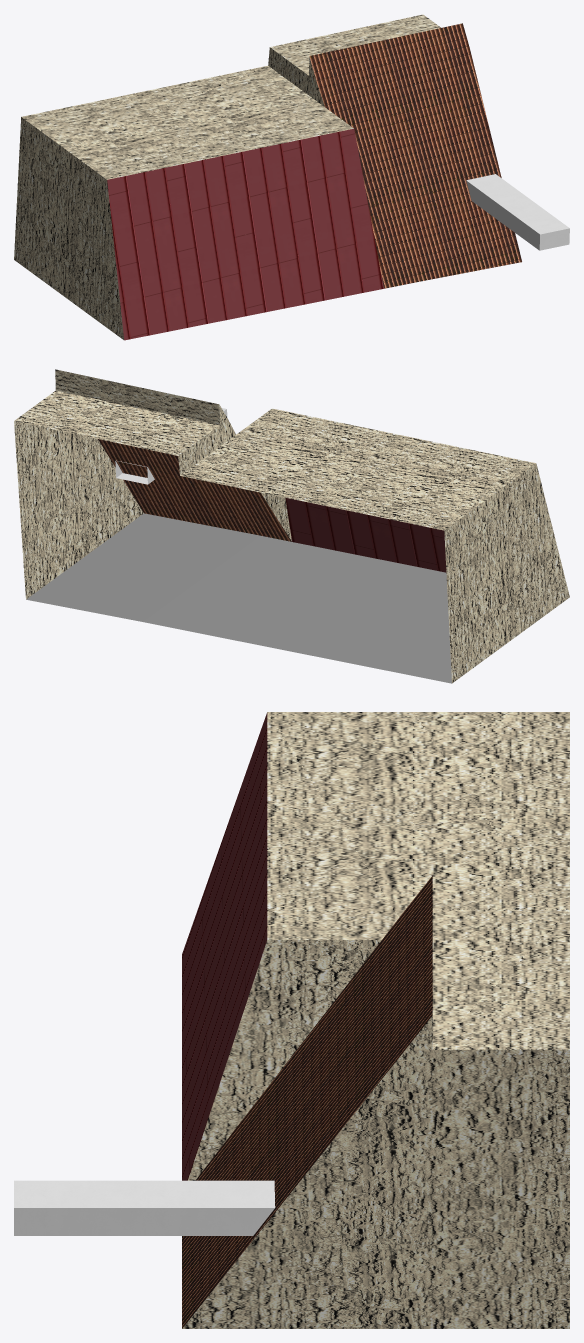
Rendered from Vene_8_2.obj.
The picture shows the model from 3 angles, top to bottom: view 1: azimuth 30°, elevation 25°; view 2: azimuth 150°, elevation 25°; view 3: azimuth 270°, elevation 25°; orthographic projection. The views are drawn at different scales.
Parts seen in each view (by area): view 1: Vene_8_2; view 2: Vene_8_2; view 3: Vene_8_2.
Boxes of the visible parts, x1=… form: Vene_8_2: x1=14, y1=14, x2=569, y2=340; Vene_8_2: x1=14, y1=369, x2=569, y2=683; Vene_8_2: x1=14, y1=712, x2=569, y2=1328.
Bounding box in the file's own units: 14.05 × 6.18 × 9.39.
